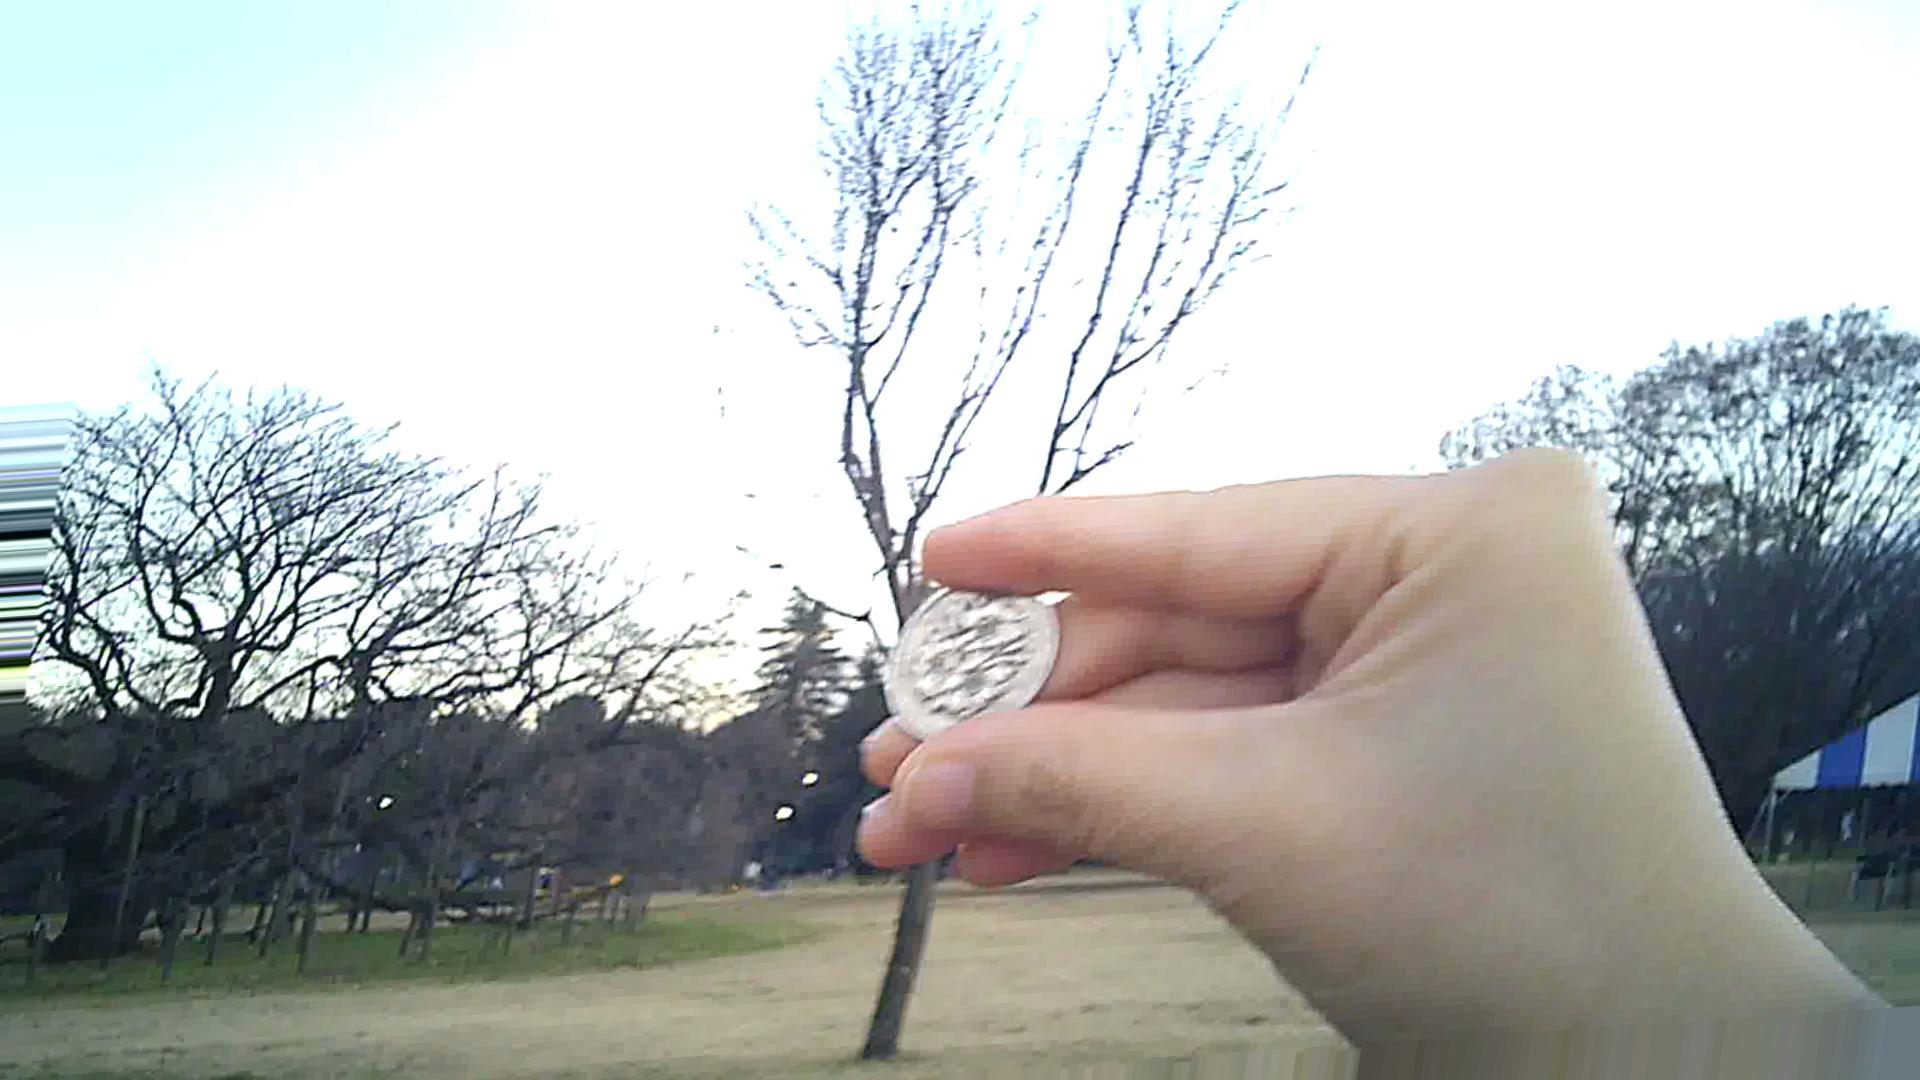100 Yen: (876, 579, 1069, 757)
